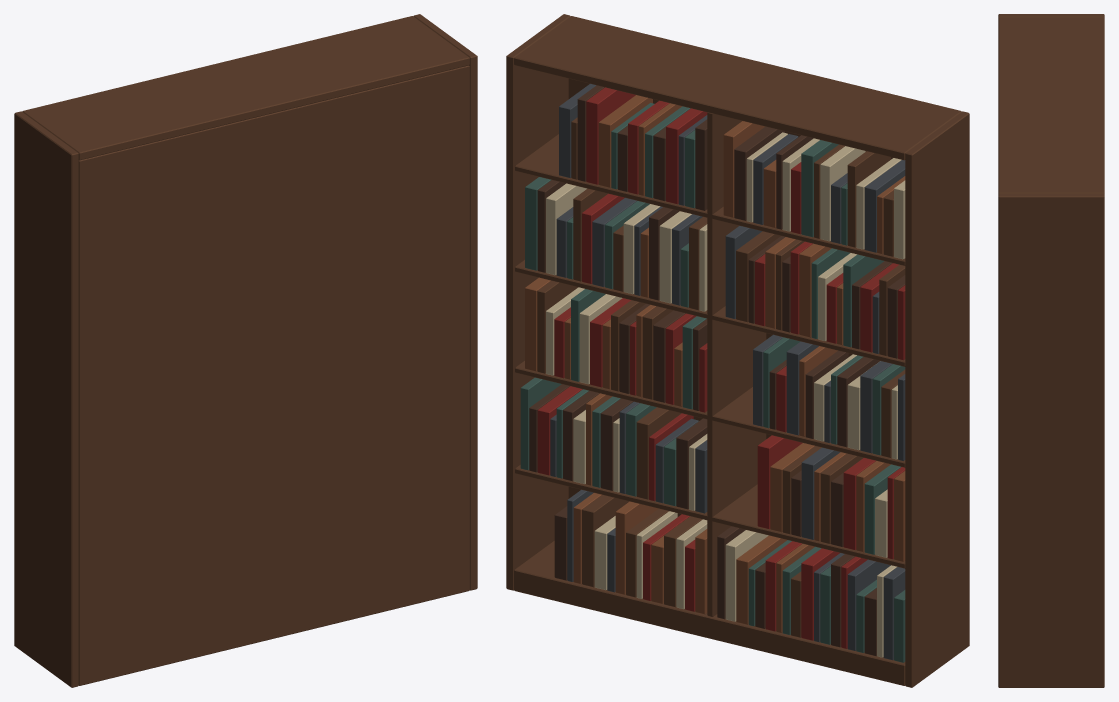
The model's file is prop_bookcase_w160.glb.
The picture shows the model from 3 angles, left to right: view 1: azimuth 30°, elevation 25°; view 2: azimuth 150°, elevation 25°; view 3: azimuth 270°, elevation 25°; orthographic projection. The views are drawn at different scales.
Parts seen in each view (by area): view 1: Bookcase; view 2: Bookcase; view 3: Bookcase.
Part boxes in pixels (x1,y1,x2,y2): Bookcase: (14, 14, 477, 687); Bookcase: (506, 14, 969, 687); Bookcase: (998, 14, 1104, 687).
Size of what is drawn, in the model's own units: 1.59 by 2 by 0.39.
